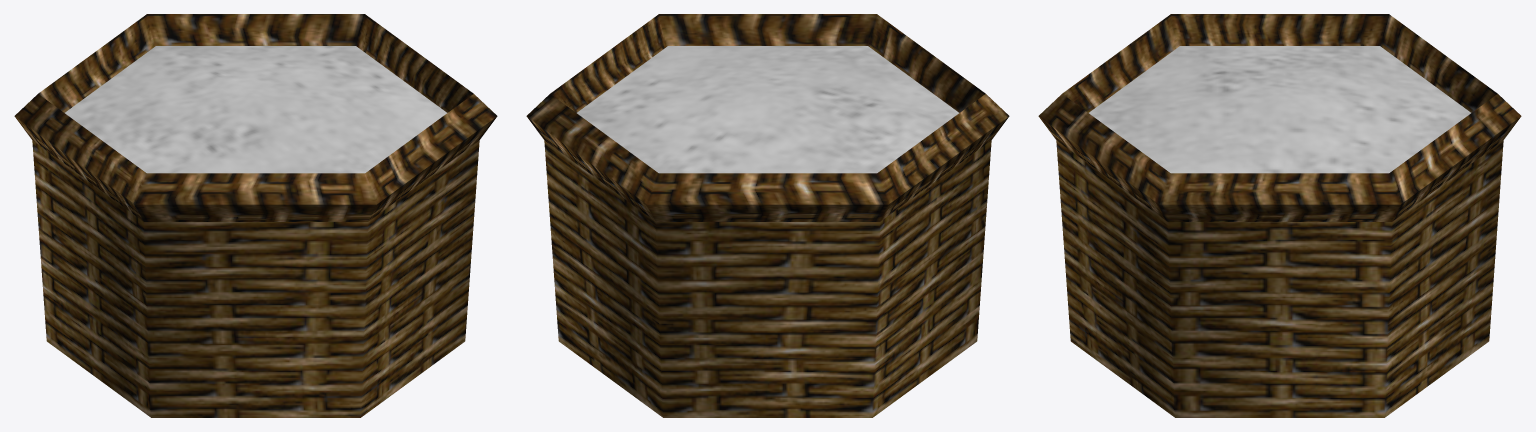
File: Basket04.fbx
3 views of the same model, side by side, from view 1: azimuth 30°, elevation 25°; view 2: azimuth 150°, elevation 25°; view 3: azimuth 270°, elevation 25° (orthographic).
Parts seen in each view (by area): view 1: basket04; view 2: basket04; view 3: basket04.
Part boxes in pixels (x1=…): basket04: x1=14, y1=14, x2=497, y2=417; basket04: x1=526, y1=14, x2=1009, y2=417; basket04: x1=1038, y1=14, x2=1521, y2=417.
Size of the model in its own units: 1.87 by 1.22 by 2.16.
